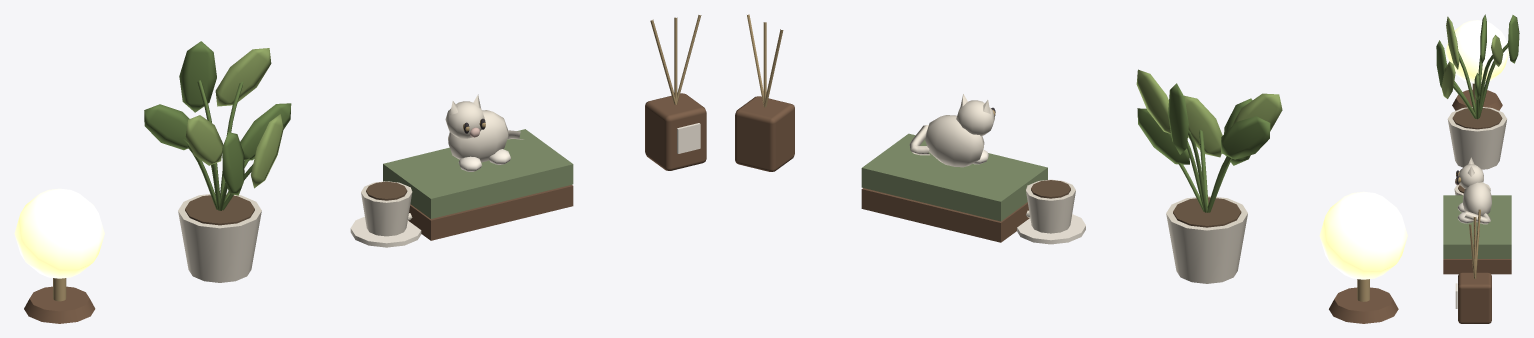
File: bedroom_ref_sideboard_top.glb
3 views of the same model, side by side, from view 1: azimuth 30°, elevation 25°; view 2: azimuth 150°, elevation 25°; view 3: azimuth 270°, elevation 25° (orthographic). The views are drawn at different scales.
Bounding box in the file's own units: 2.28 × 0.6729 × 0.3415.
